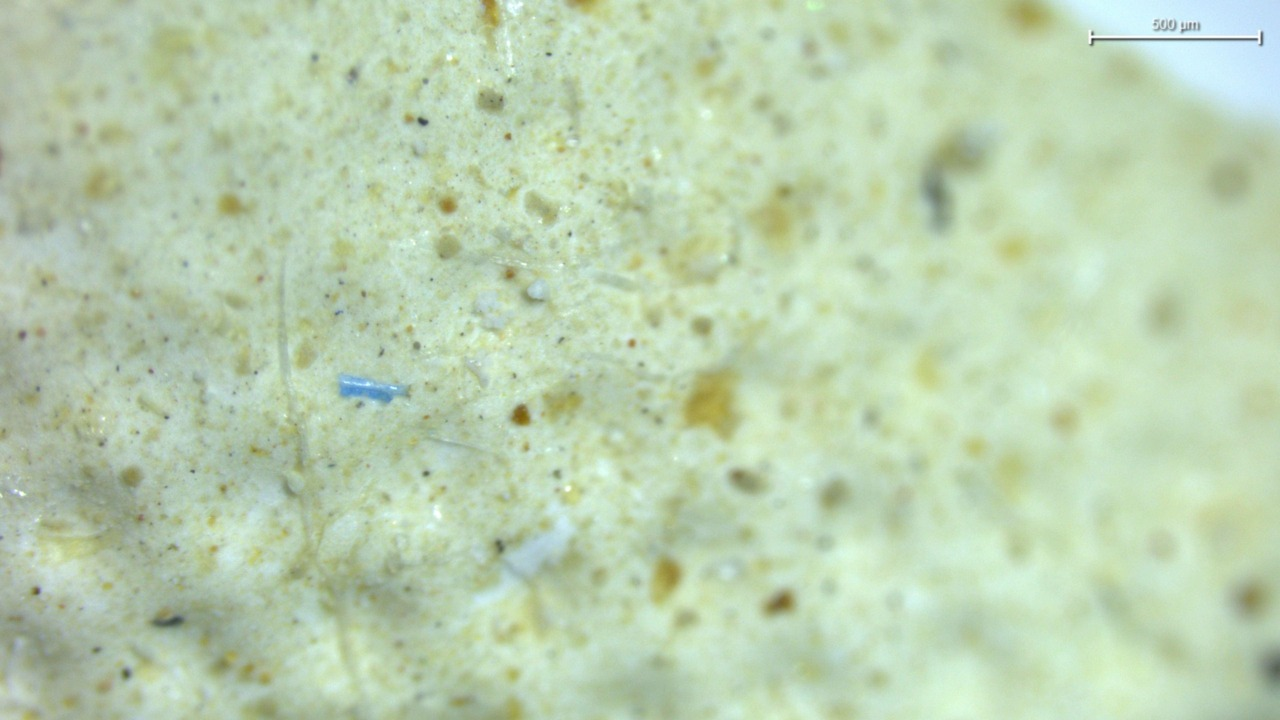microplastic_fragment: (339, 374, 407, 403)
